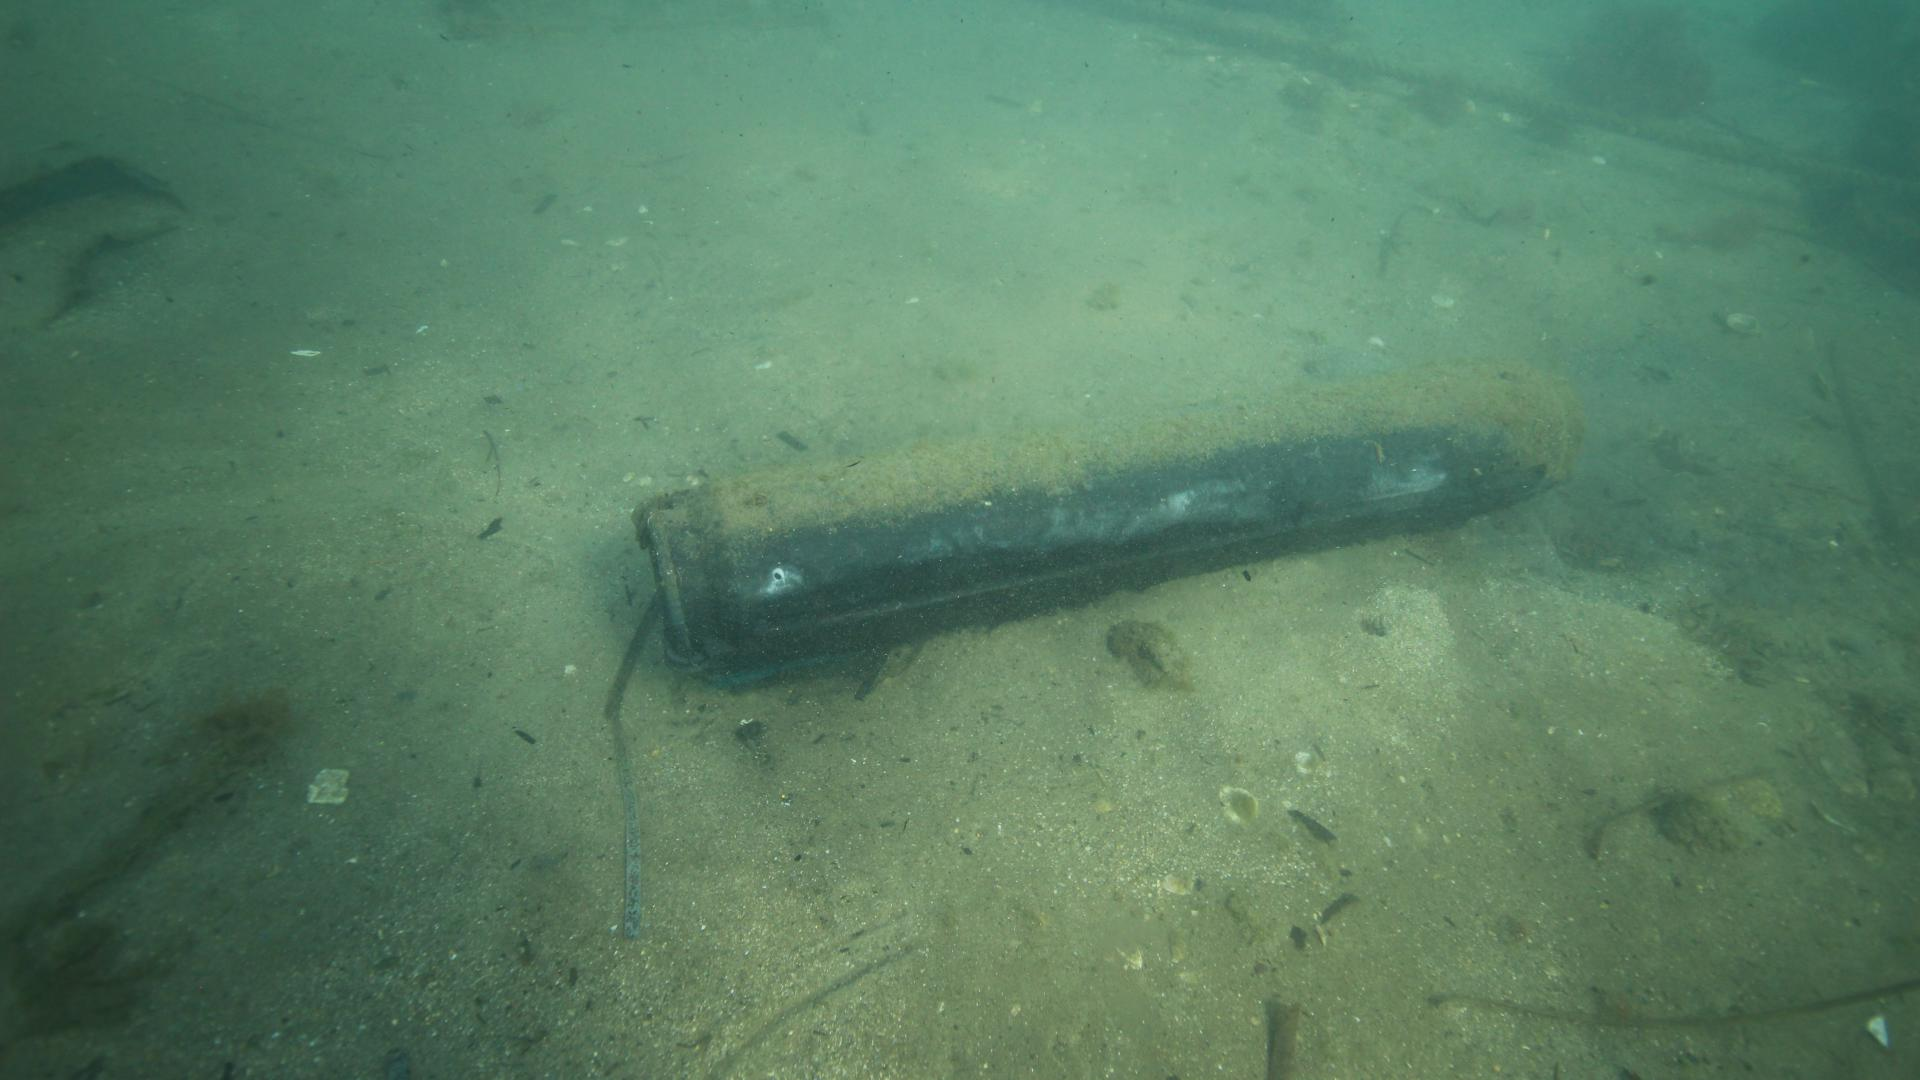eel fish trap: (634, 363, 1572, 662)
